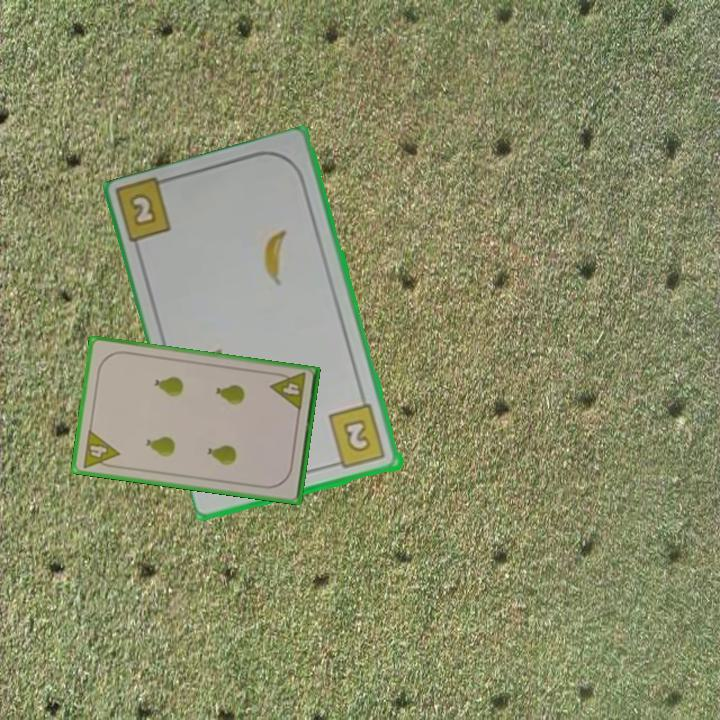2b: (325, 401, 389, 472), (126, 189, 160, 230)
4p: (79, 426, 122, 472), (267, 369, 309, 414)
